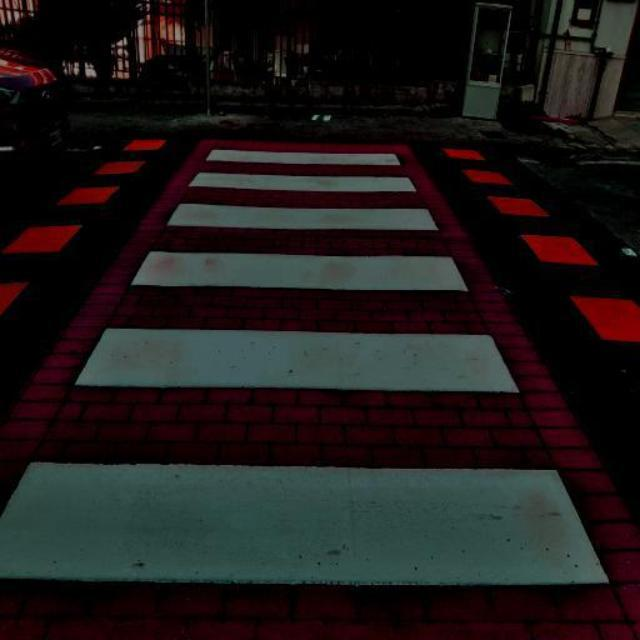sidewalk: (0, 137, 633, 640)
